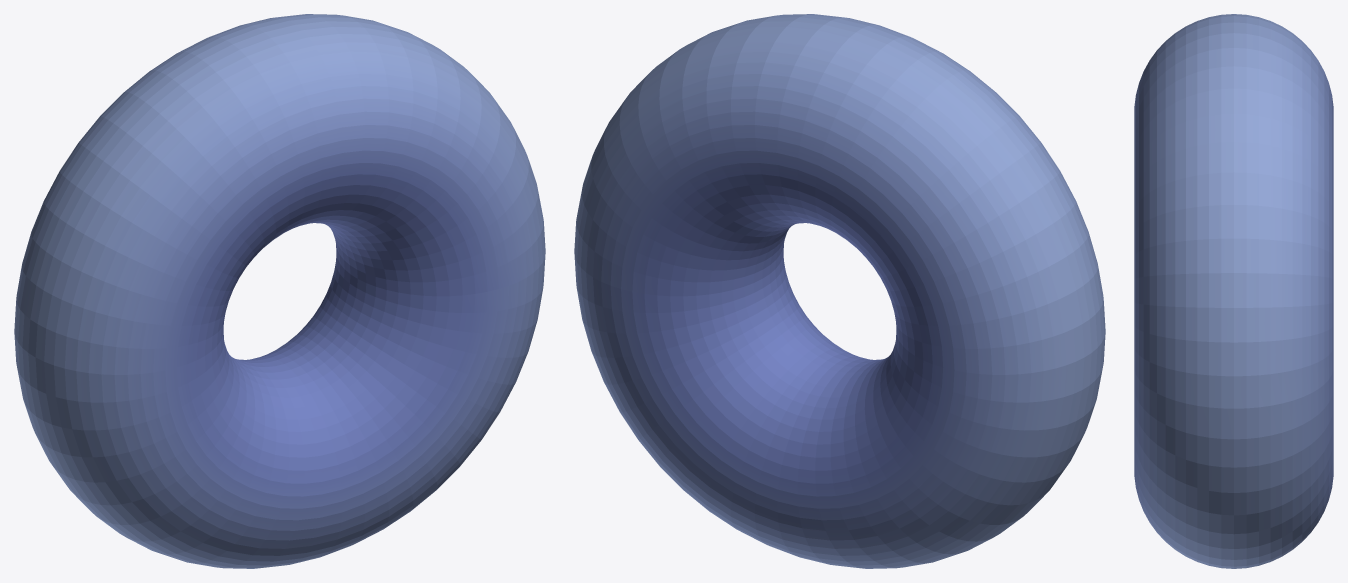
The picture shows the model from 3 angles, left to right: view 1: azimuth 30°, elevation 25°; view 2: azimuth 150°, elevation 25°; view 3: azimuth 270°, elevation 25°; orthographic projection. The views are drawn at different scales.
Visible parts, largest first — view 1: world; view 2: world; view 3: world.
Part boxes in pixels (bbox=[...]): world: bbox=[14, 14, 545, 568]; world: bbox=[574, 14, 1105, 568]; world: bbox=[1134, 14, 1333, 568].
Bounding box in the file's own units: 16.67 × 16.63 × 5.99.
